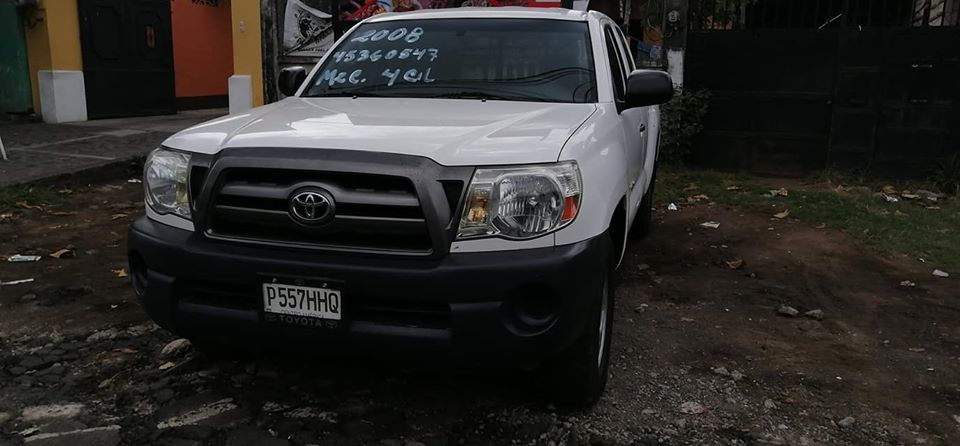pickup: (128, 9, 609, 394)
